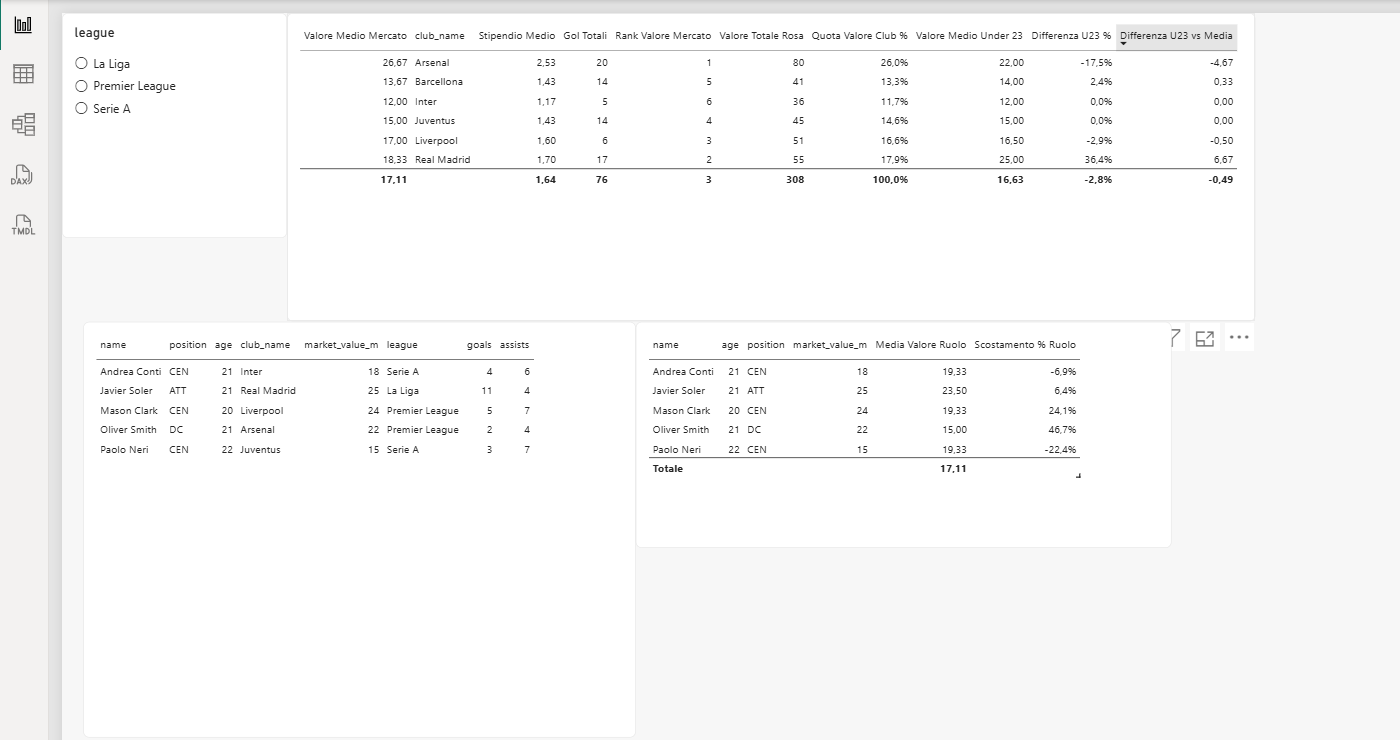

The dashboard page shown, as its layout file describes it:
{"tool":"powerbi","page":{"name":"Pagina 1","canvas":[1920,1080],"ordinal":0},"visuals":[{"type":"tableEx","fields":{"Values":["ClubsTable.Valore Medio Mercato","ClubsTable.club_name","PlayersTable.Stipendio Medio","ClubsTable.Gol Totali","ClubsTable.Rank Valore Mercato","PlayersTable.Valore Totale Rosa","ClubsTable.Quota Valore Club %","ClubsTable.Valore Medio Under 23","ClubsTable.Differenza U23 %","ClubsTable.Differenza U23 vs Media"]},"box":[300,0,1291.4,411.4],"z":1},{"type":"listSlicer","fields":{"Values":["ClubsTable.league"]},"box":[0,0,300,300],"z":2},{"type":"tableEx","fields":{"Values":["PlayersTable.name","PlayersTable.position","PlayersTable.age","ClubsTable.club_name","PlayersTable.market_value_m","ClubsTable.league","PlayersTable.goals","PlayersTable.assists"]},"box":[28,412,737.1,554.3],"z":3},{"type":"tableEx","fields":{"Values":["PlayersTable.name","PlayersTable.age","PlayersTable.position","PlayersTable.market_value_m","ClubsTable.Media Valore Ruolo","select","ClubsTable.Scostamento % Ruolo"]},"box":[766,412,714.3,301.4],"z":4}]}

Visuals, with their boxes on the page's 1920x1080 design canvas (x1, y1, x2, y2). These are canvas units, not pixel positions in the 1400x740 screenshot, which may show the page scaled, cropped or inside an application window:
tableEx - ClubsTable.Valore Medio Mercato x ClubsTable.club_name: 300/0/1591/411
listSlicer - ClubsTable.league: 0/0/300/300
tableEx - PlayersTable.name x PlayersTable.position: 28/412/765/966
tableEx - PlayersTable.name x PlayersTable.age: 766/412/1480/713
